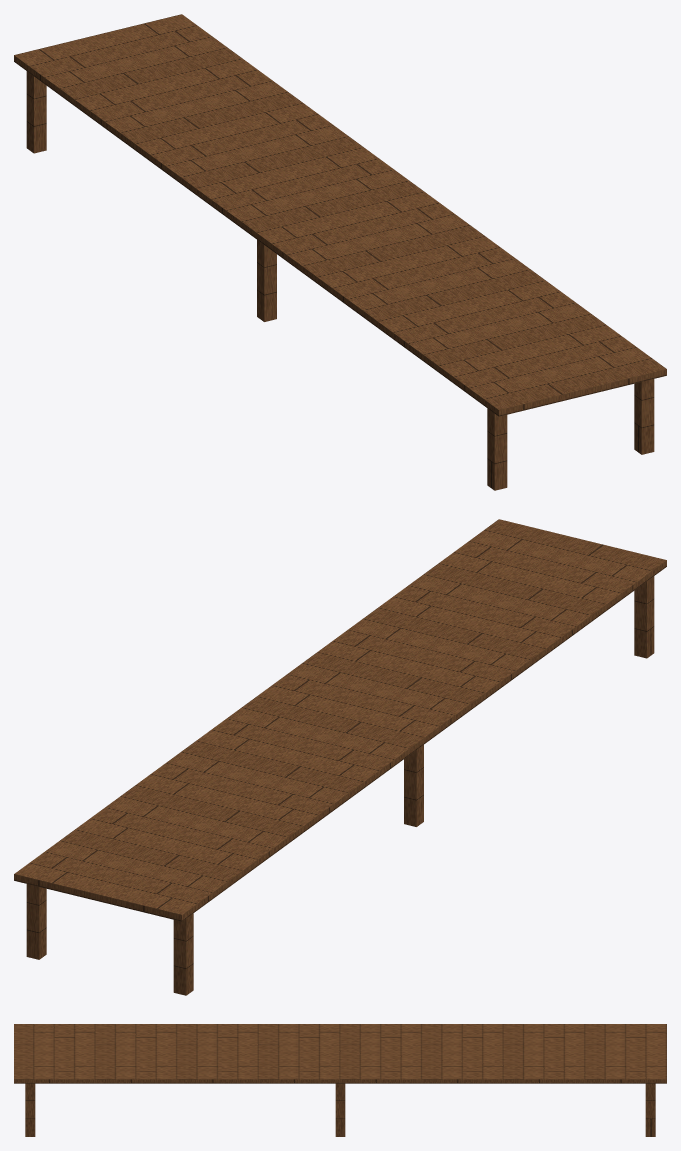
File: long-table.obj
The picture shows the model from 3 angles, top to bottom: view 1: azimuth 30°, elevation 25°; view 2: azimuth 150°, elevation 25°; view 3: azimuth 270°, elevation 25°; orthographic projection. The views are drawn at different scales.
Visible parts, largest first — view 1: wood; view 2: wood; view 3: wood.
Part boxes in pixels (x1,y1,x2,y2): wood: [14, 14, 666, 490]; wood: [14, 519, 666, 995]; wood: [14, 1024, 666, 1136].
Size of the model in its own units: 1.6 by 0.8 by 8.
Materials: 1 (1 with a texture image).
